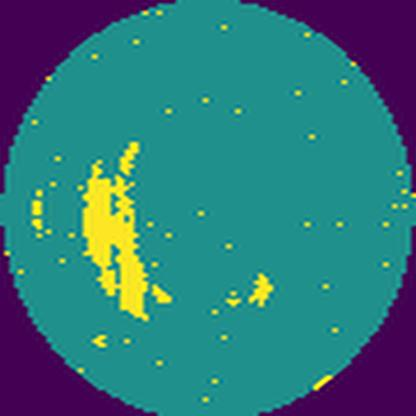Edge-Loc: (84, 136, 177, 322), (252, 270, 279, 308)
